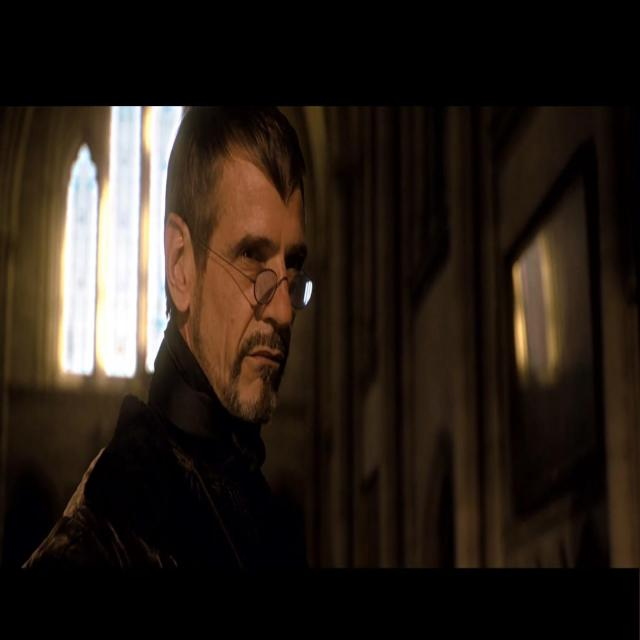no-earmuff: (158, 193, 201, 324)
